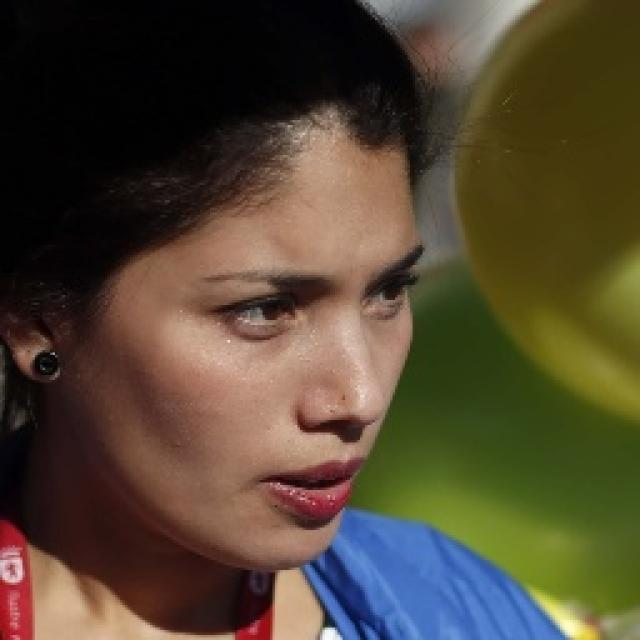earlobe: (20, 338, 60, 385)
eye: (224, 293, 296, 331), (368, 279, 408, 312)
nose: (310, 421, 370, 454)
wholeear: (0, 302, 60, 382)
